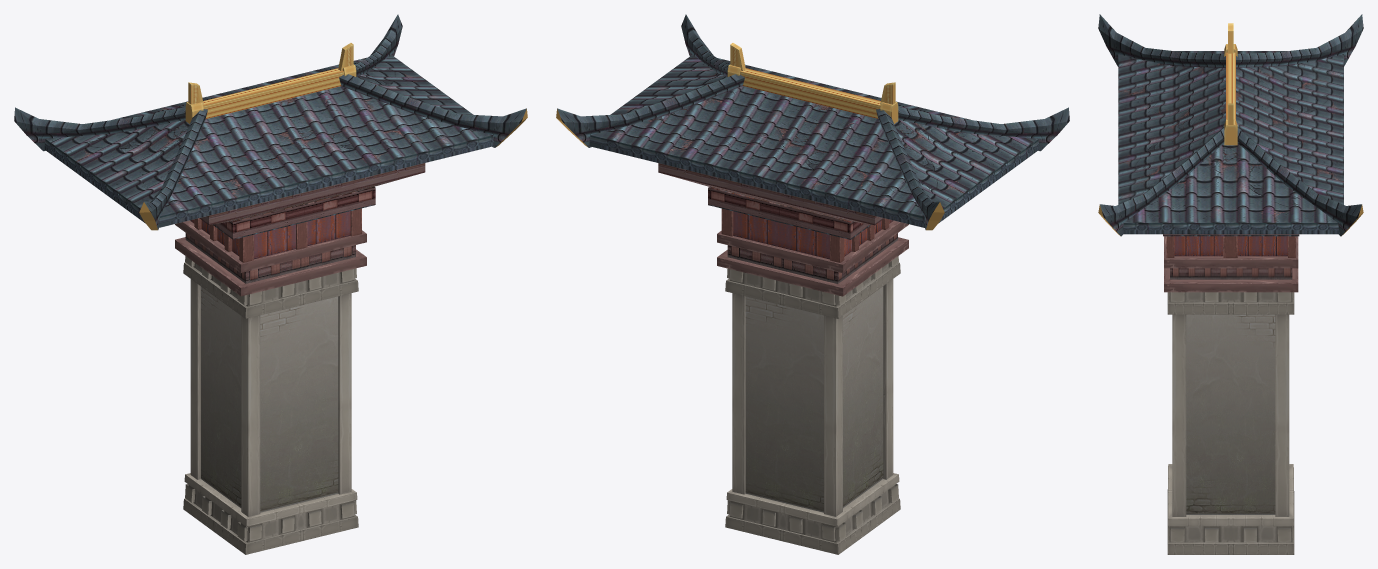
The model's file is mod_zlc_jianzhu084_xy.FBX.
3 views of the same model, side by side, from view 1: azimuth 30°, elevation 25°; view 2: azimuth 150°, elevation 25°; view 3: azimuth 270°, elevation 25° (orthographic).
Visible parts, largest first — view 1: mod_zlc_jianzhu084_xy; view 2: mod_zlc_jianzhu084_xy; view 3: mod_zlc_jianzhu084_xy.
Part boxes in pixels (x1=…): mod_zlc_jianzhu084_xy: x1=14, y1=14, x2=527, y2=554; mod_zlc_jianzhu084_xy: x1=556, y1=14, x2=1069, y2=554; mod_zlc_jianzhu084_xy: x1=1098, y1=14, x2=1363, y2=554.
Bounding box in the file's own units: 686 × 768 × 399.
Materials: 4 (4 with a texture image).
